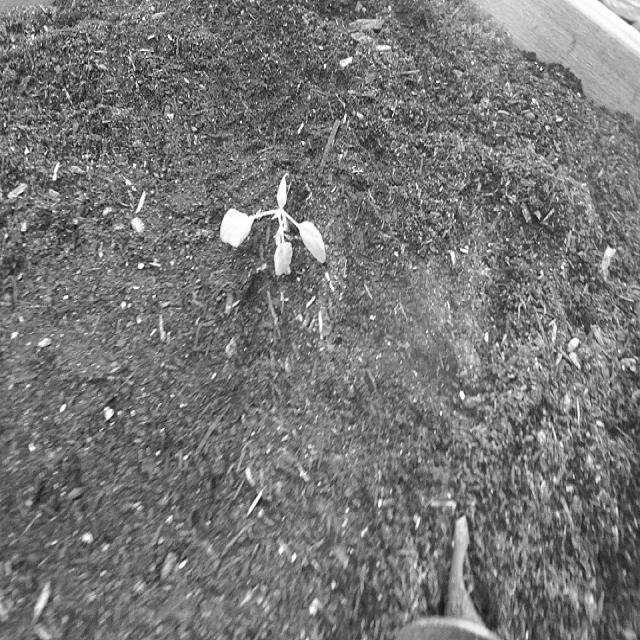Healthy: (215, 168, 332, 284)
